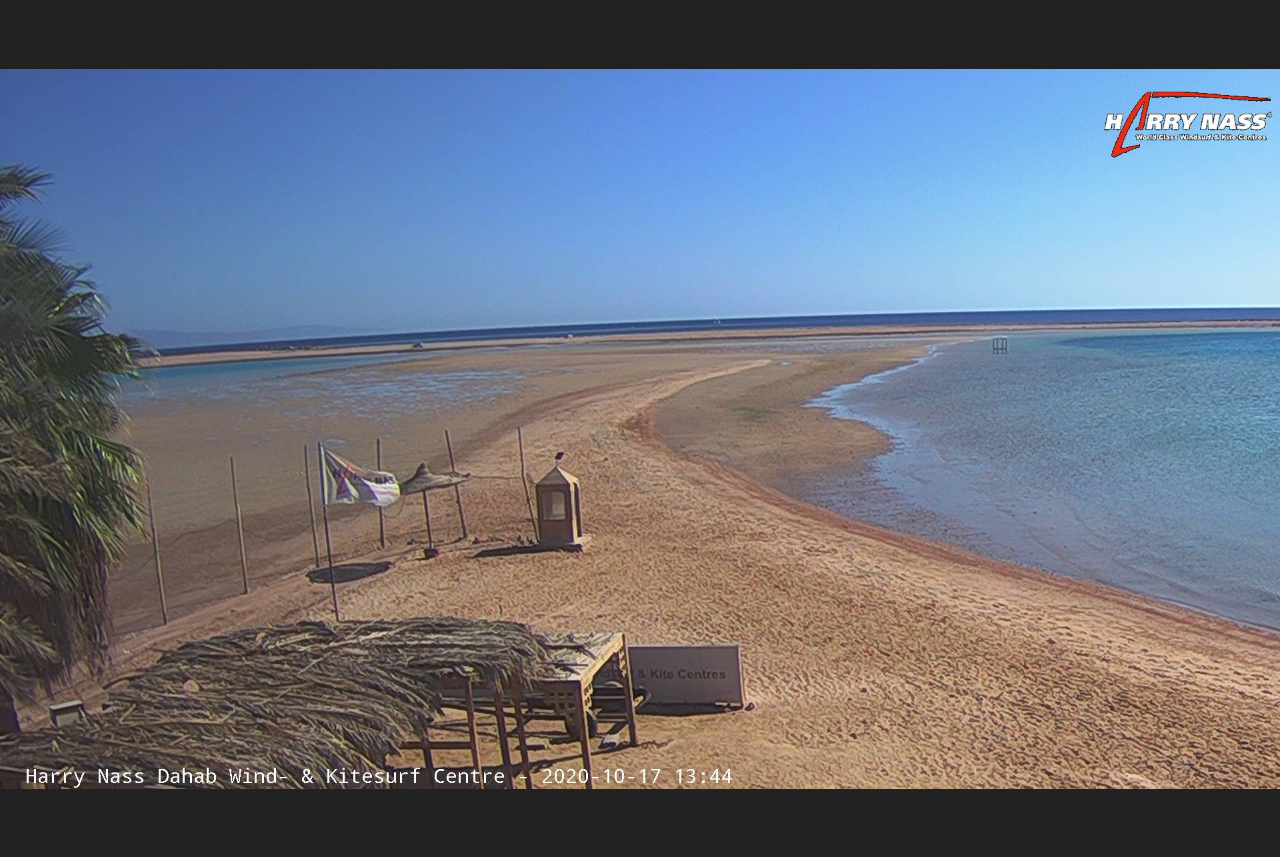yes: (320, 447, 405, 510)
